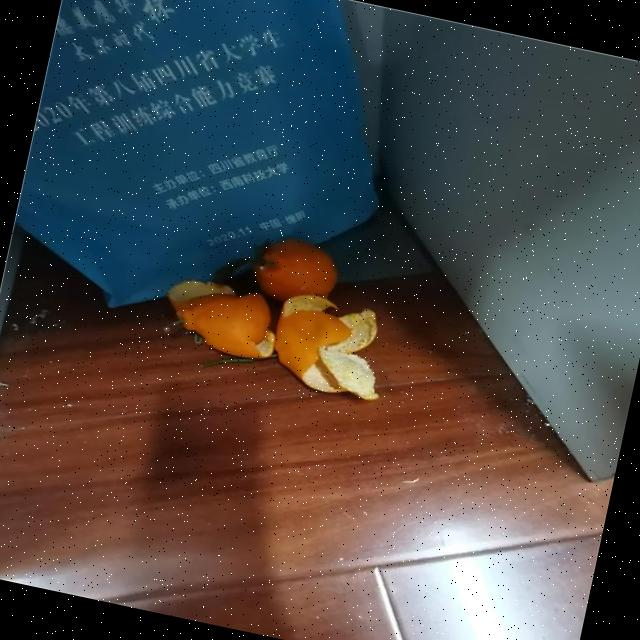orange-peel: (164, 274, 284, 364), (248, 230, 342, 310)
